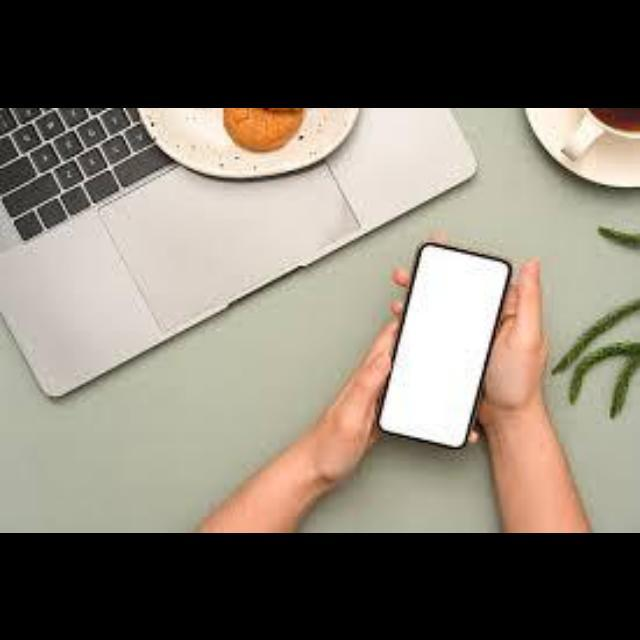Phone: (378, 240, 512, 448)
